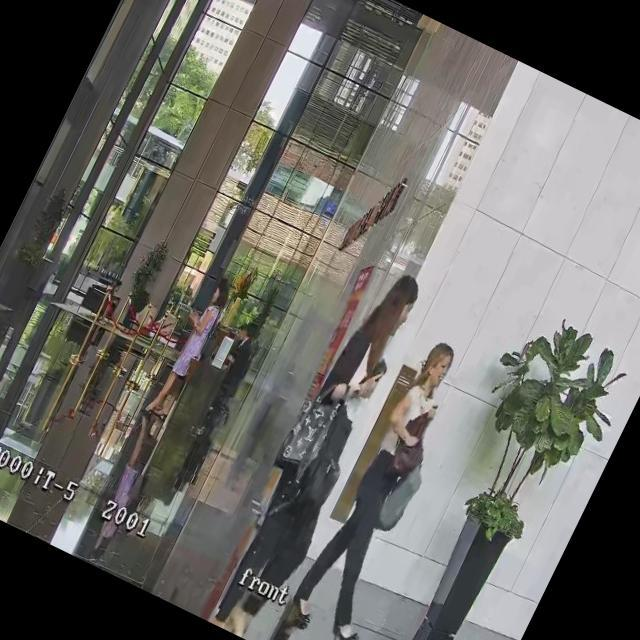person: (207, 260, 437, 640), (281, 331, 491, 640), (142, 268, 236, 422), (218, 322, 264, 388), (92, 277, 125, 326)
